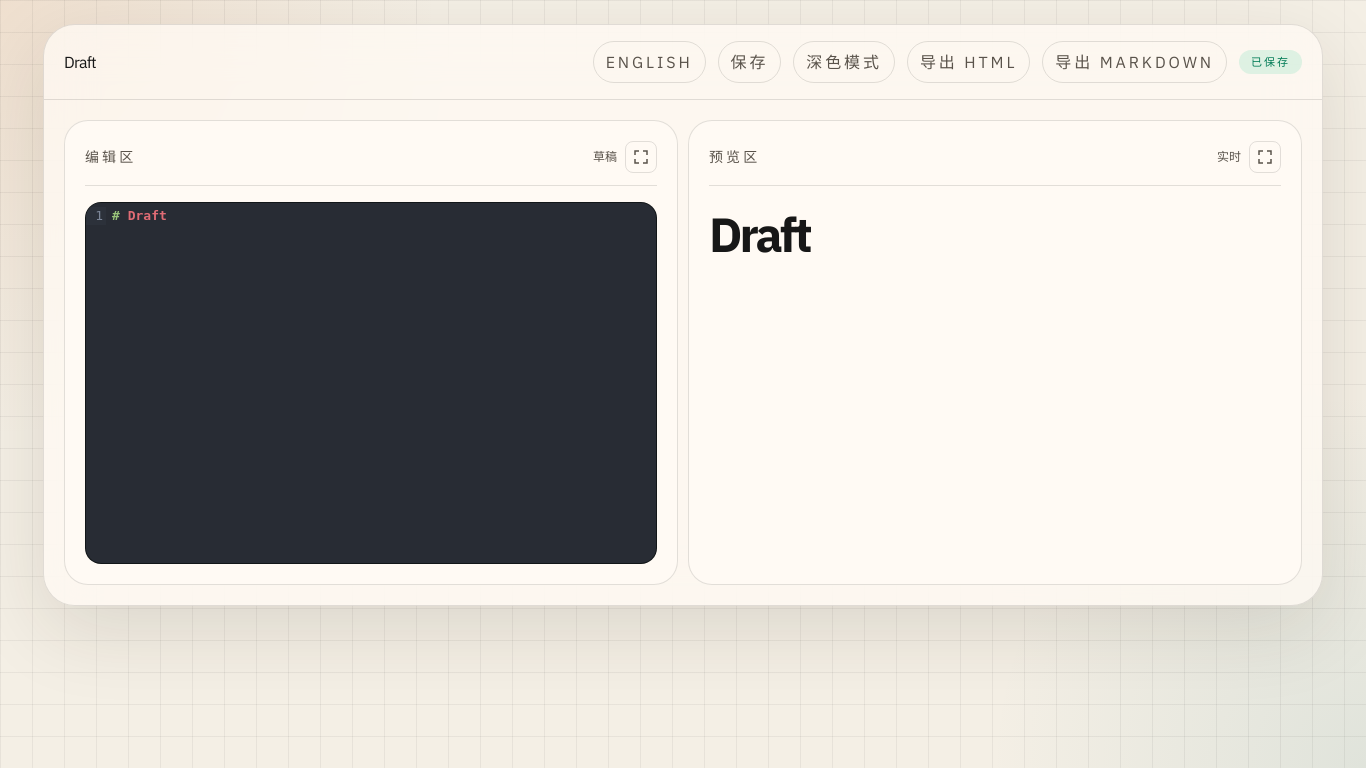
Test: language and theme preferences › toggles editor copy between chinese and english
Step 1. Click the button "English" → (649, 62), box x1=593 y1=41 x2=706 y2=83
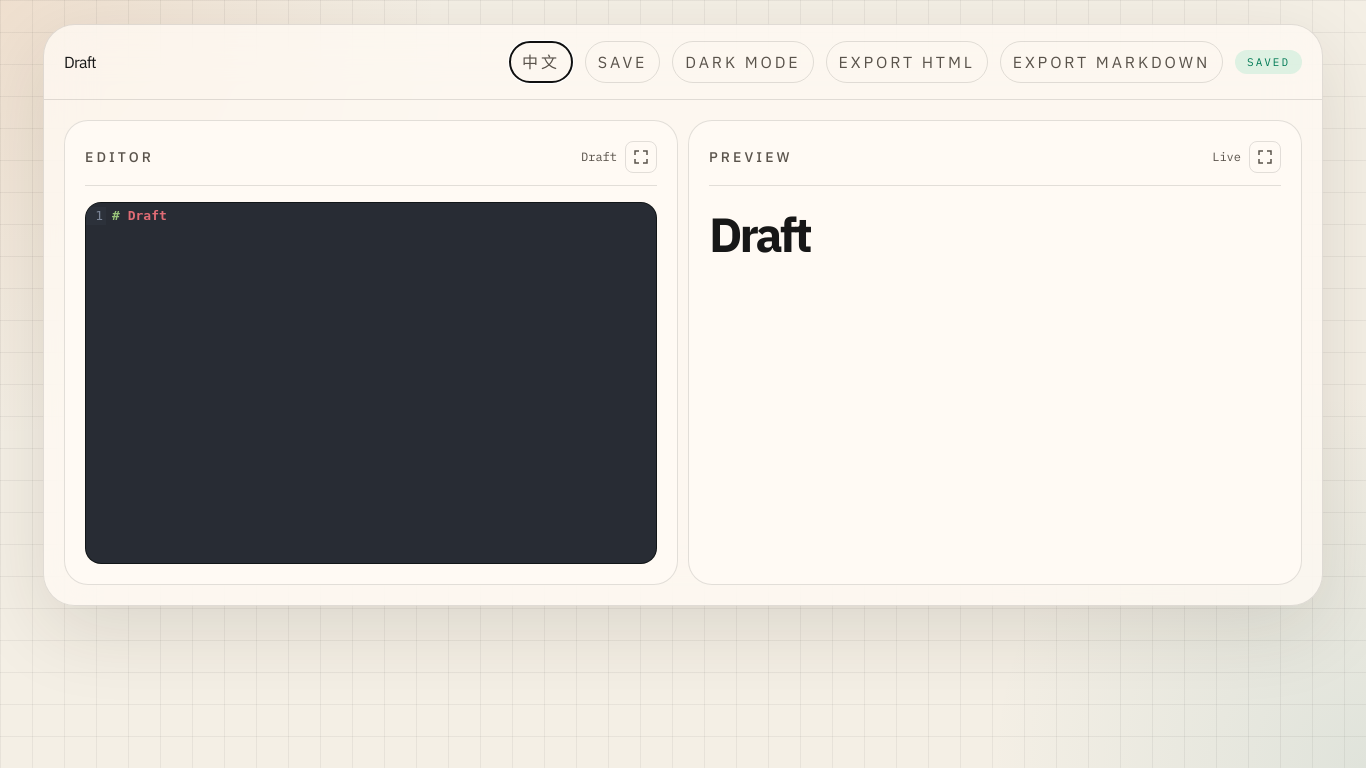
Now the button "Export Markdown" is shown, box x1=1000 y1=41 x2=1223 y2=83
Now the button "中文" is shown, box x1=509 y1=41 x2=573 y2=83
Now the heading "Preview" is shown, box x1=709 y1=147 x2=793 y2=167
